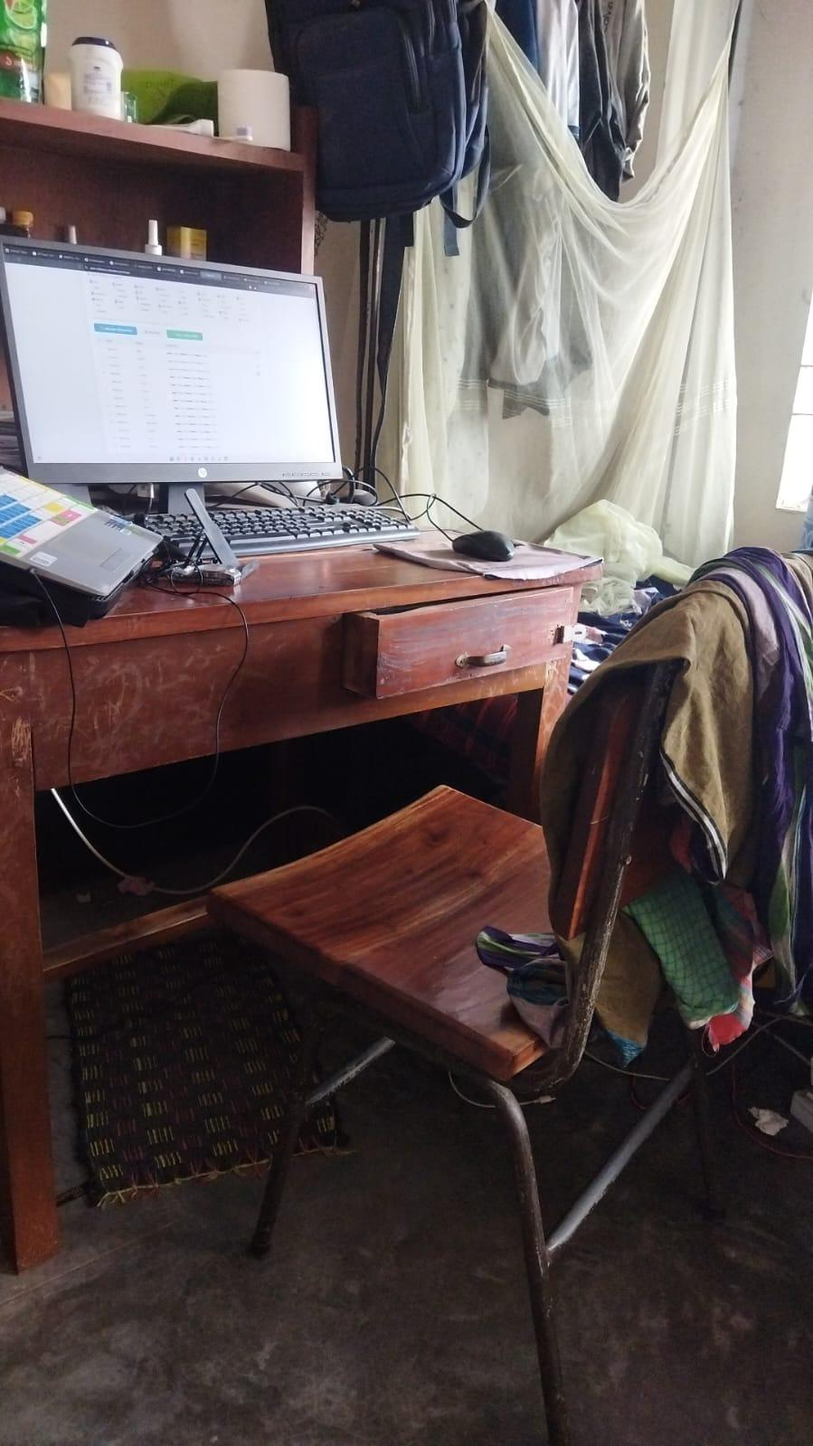Chair: (214, 776, 707, 1385)
Drawer: (332, 590, 586, 691)
Floor Mat: (44, 925, 369, 1156)
Keyboard: (149, 472, 411, 560)
Monitor: (0, 256, 336, 479)
Mouse: (439, 521, 531, 567)
Table: (42, 432, 607, 1329)
